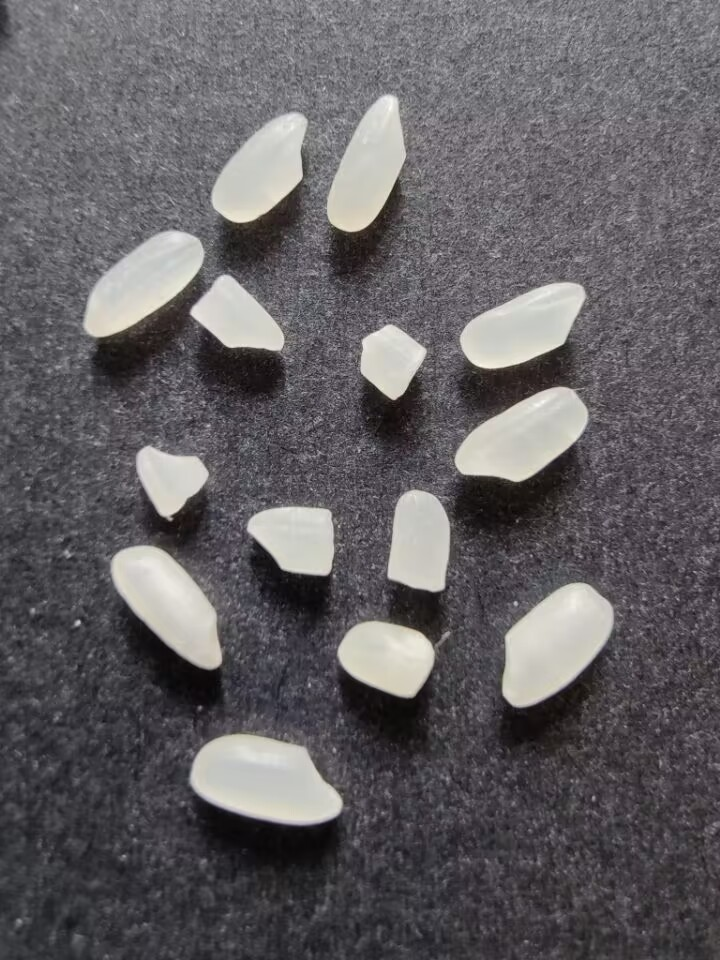broken: (186, 271, 287, 358), (331, 619, 436, 702), (381, 485, 455, 593), (242, 504, 339, 583), (130, 440, 216, 523), (349, 320, 430, 406)
rice: (494, 579, 618, 712), (106, 542, 226, 676), (182, 732, 349, 828), (81, 227, 207, 338), (448, 384, 590, 482), (324, 88, 410, 234), (206, 108, 310, 225), (459, 280, 589, 368)
